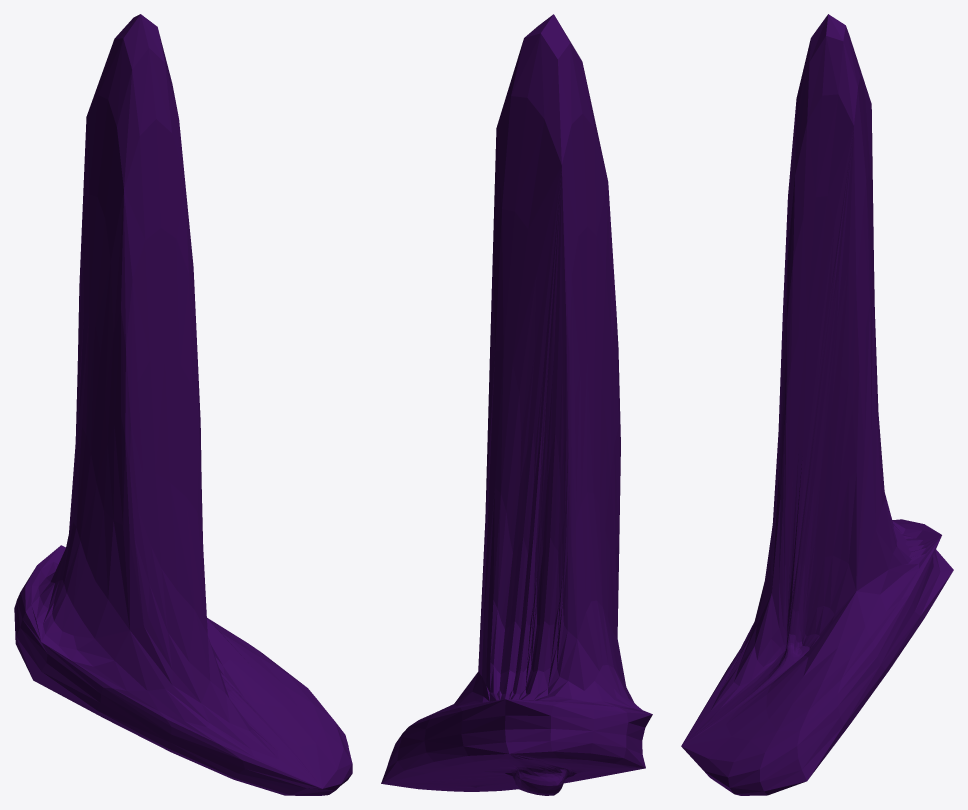
3 views of the same model, side by side, from view 1: azimuth 30°, elevation 25°; view 2: azimuth 150°, elevation 25°; view 3: azimuth 270°, elevation 25° (orthographic). The views are drawn at different scales.
Visible parts, largest first — view 1: 621_Cube.2497; view 2: 621_Cube.2497; view 3: 621_Cube.2497.
Part boxes in pixels (<box>): 621_Cube.2497: <box>14,14,352,795</box>; 621_Cube.2497: <box>381,14,652,795</box>; 621_Cube.2497: <box>681,14,953,795</box>.
Size of the model in its own units: 4.51 by 12.46 by 4.32.
